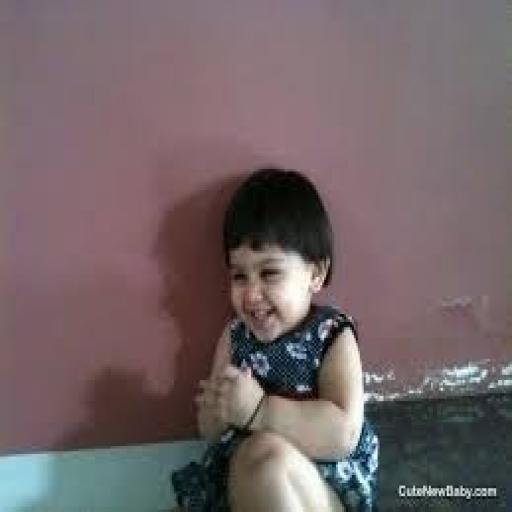laughing: (168, 153, 387, 509)
